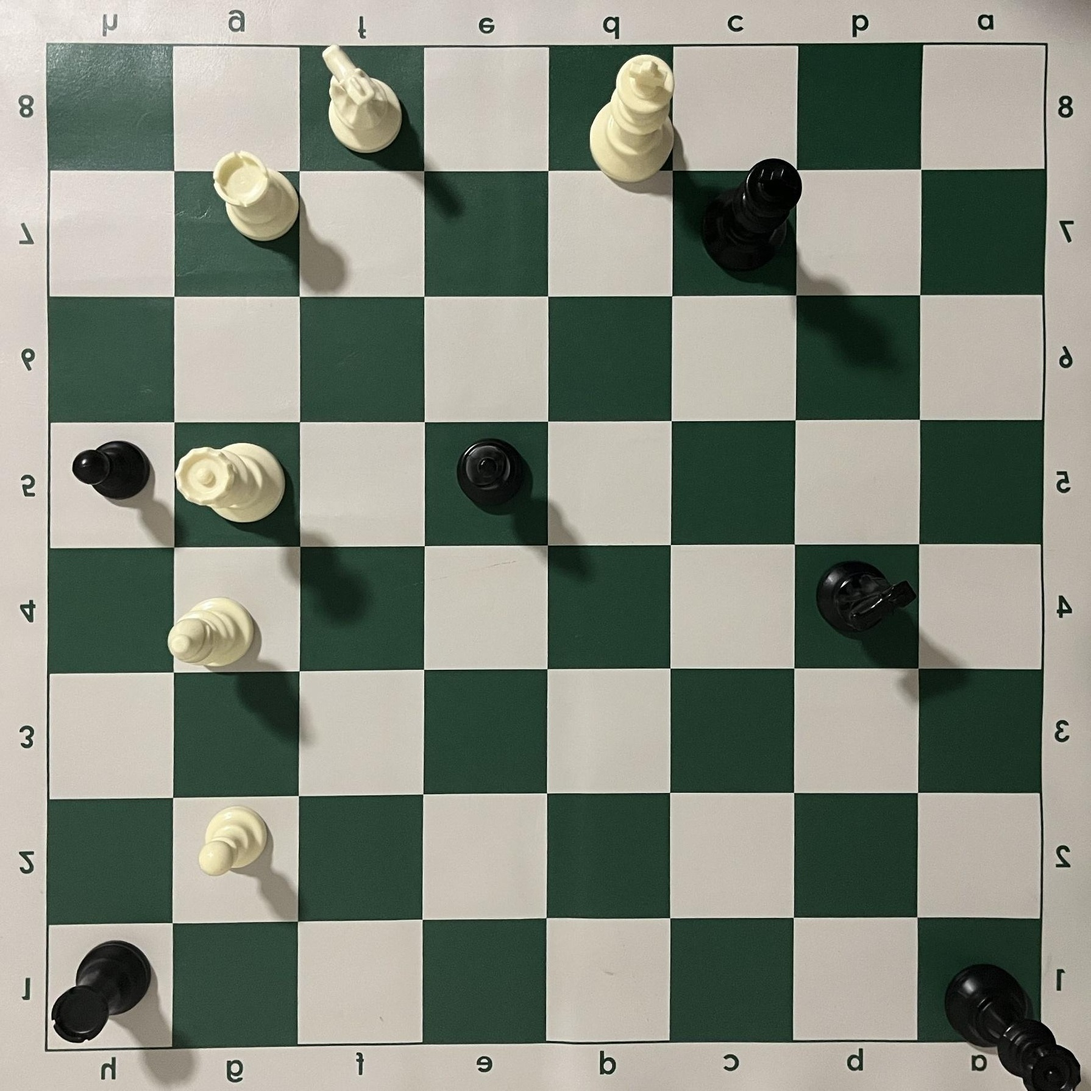black_bishop: (457, 438, 525, 511)
black_king: (701, 157, 803, 272)
black_knight: (815, 560, 917, 637)
black_pawn: (72, 439, 152, 500)
black_queen: (944, 964, 1082, 1091)
black_rook: (51, 940, 152, 1045)
white_bishop: (167, 597, 255, 669)
white_king: (589, 54, 675, 183)
white_knight: (322, 44, 403, 154)
white_pawn: (197, 805, 268, 876)
white_queen: (175, 441, 286, 522)
white_rook: (212, 150, 299, 242)
